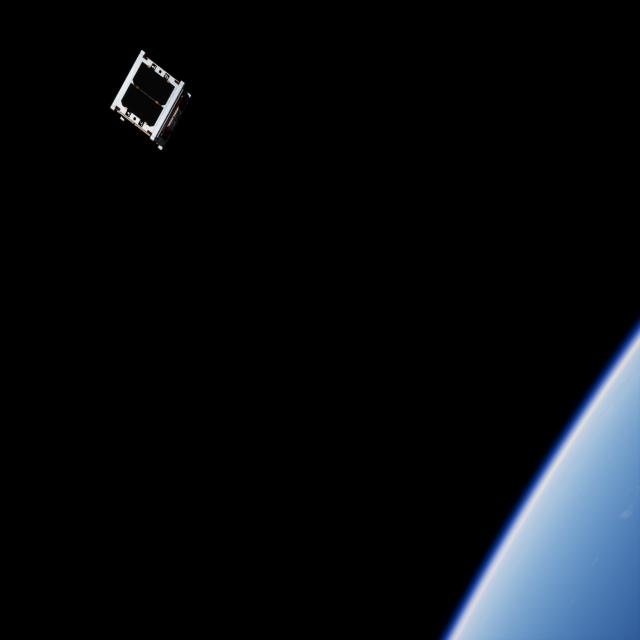medium_debris: (106, 47, 205, 148)
